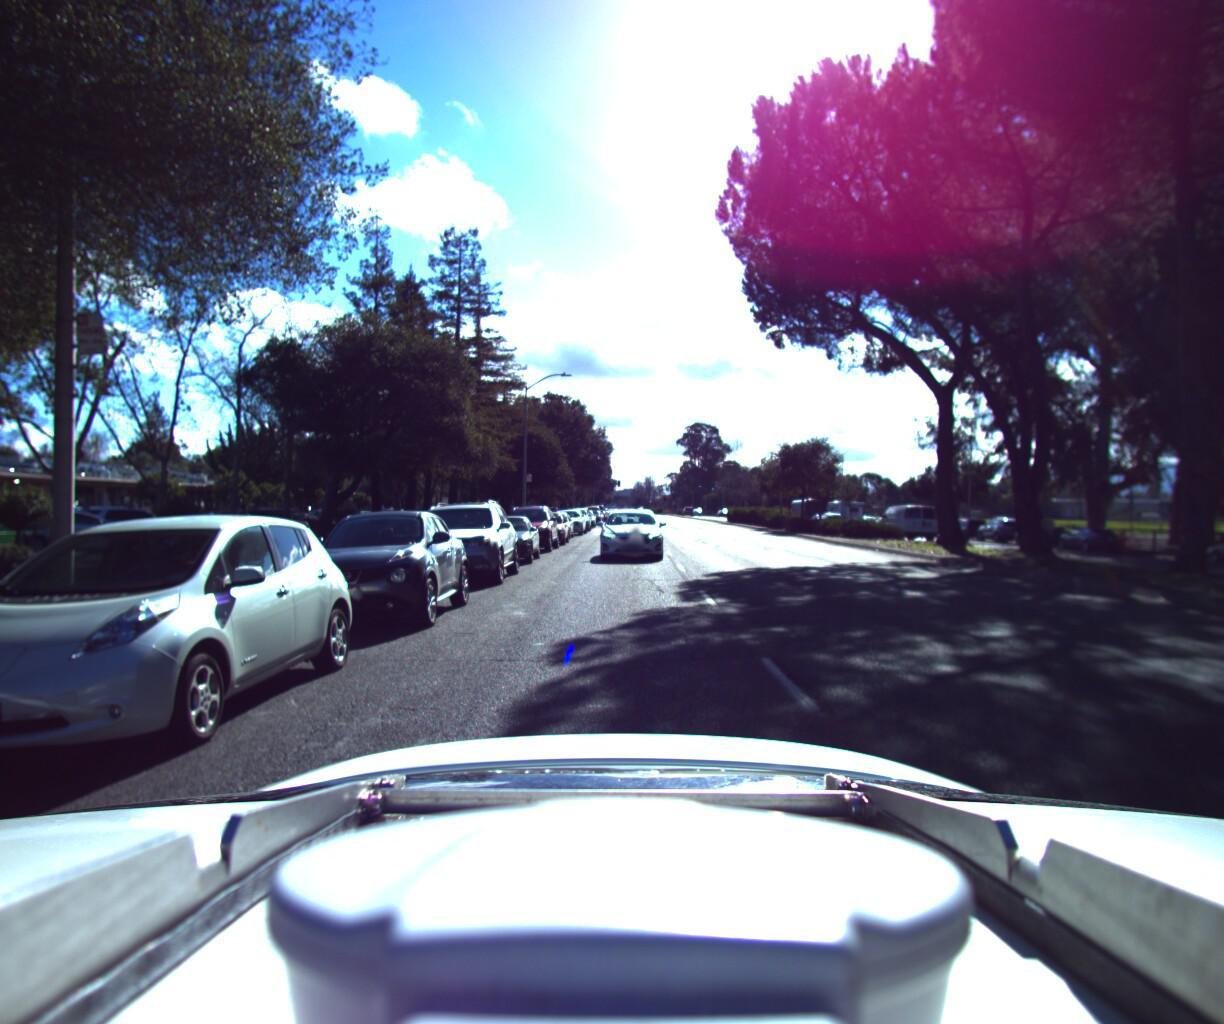car: (0, 504, 369, 806), (274, 502, 478, 638), (395, 491, 524, 586), (465, 507, 544, 563), (594, 502, 664, 557), (495, 497, 562, 549), (866, 495, 935, 531), (1052, 517, 1129, 547), (521, 503, 570, 541), (1009, 515, 1076, 542), (1197, 523, 1224, 563), (548, 501, 588, 529), (811, 504, 840, 526)
